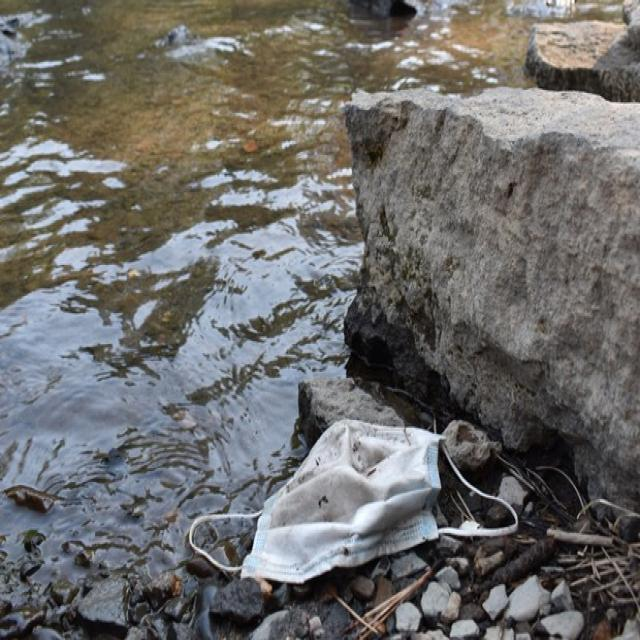face mask: (186, 418, 518, 582)
